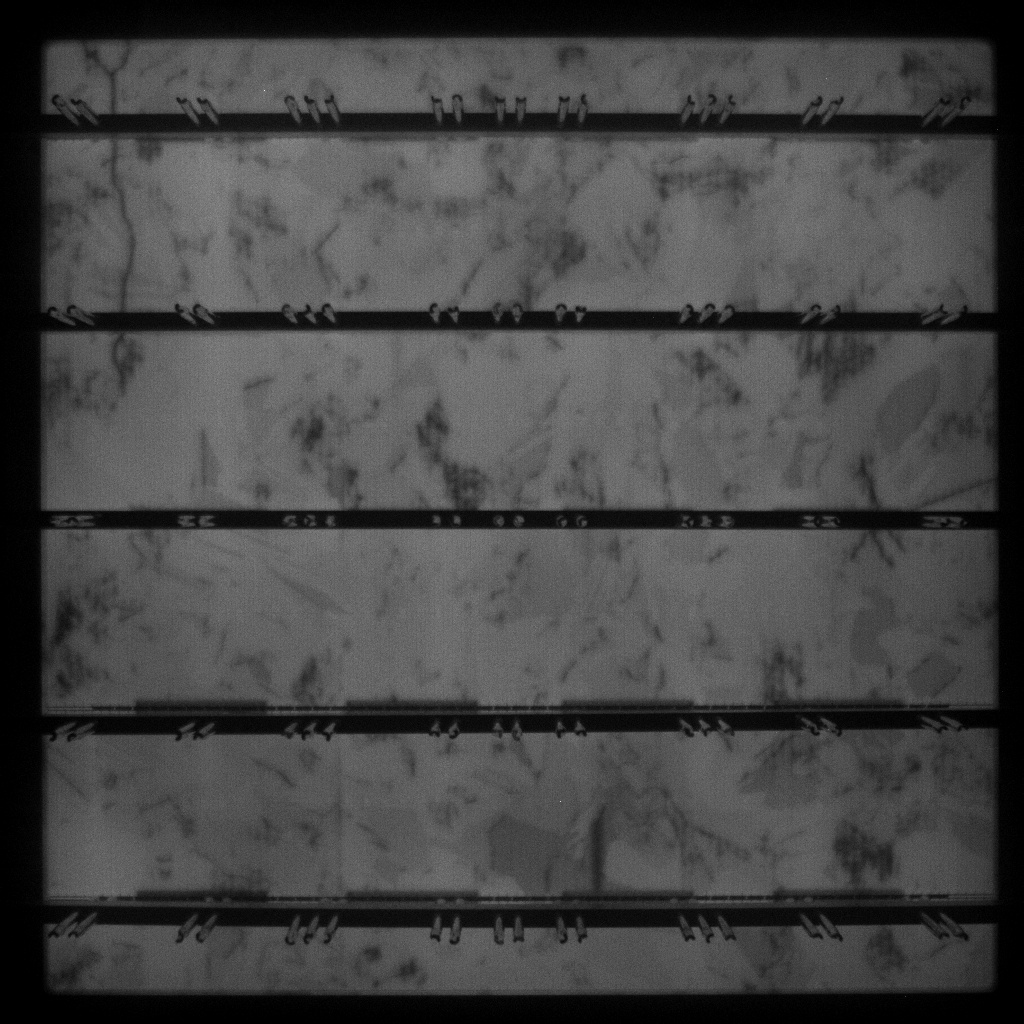crack: (104, 142, 142, 311), (79, 44, 136, 113), (110, 334, 130, 397)
